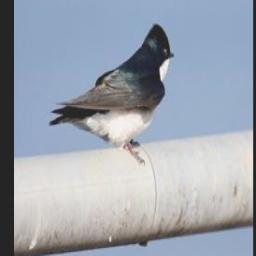Swallow: (48, 22, 174, 165)
